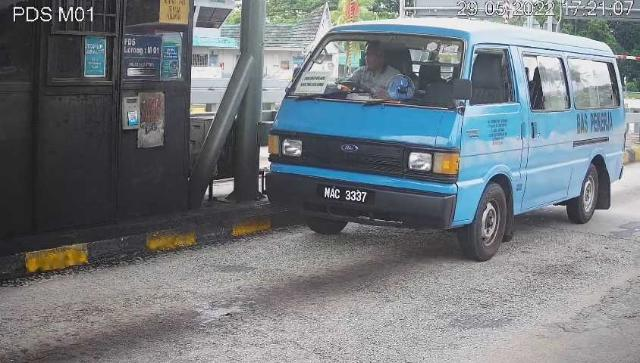License_Plate: (317, 183, 378, 209)
van: (266, 19, 629, 261)
